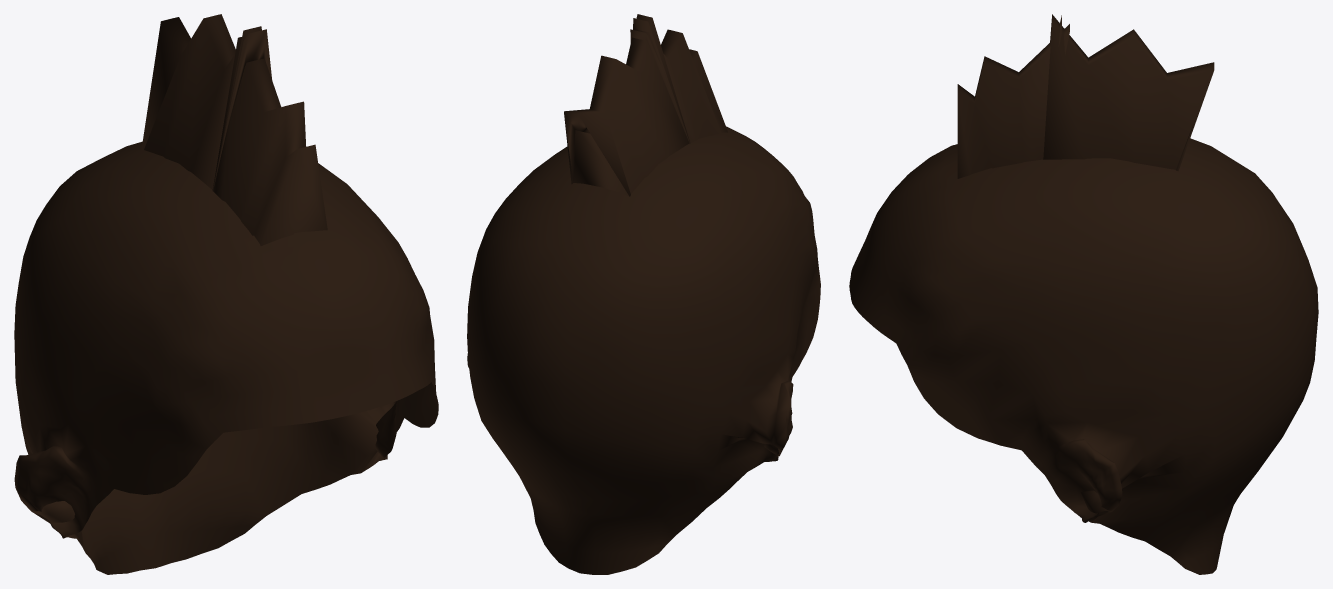
Rendered from hair_mohawk.glb.
3 renders of one model, left to right at view 1: azimuth 30°, elevation 25°; view 2: azimuth 150°, elevation 25°; view 3: azimuth 270°, elevation 25°, orthographic. The views are drawn at different scales.
Visible parts, largest first — view 1: hair_mohawk; view 2: hair_mohawk; view 3: hair_mohawk.
Part boxes in pixels (x1,y1,x2,y2): hair_mohawk: (14, 14, 438, 574); hair_mohawk: (467, 14, 820, 574); hair_mohawk: (849, 14, 1318, 574).
Size of the model in its own units: 0.1899 by 0.2857 by 0.2202.
